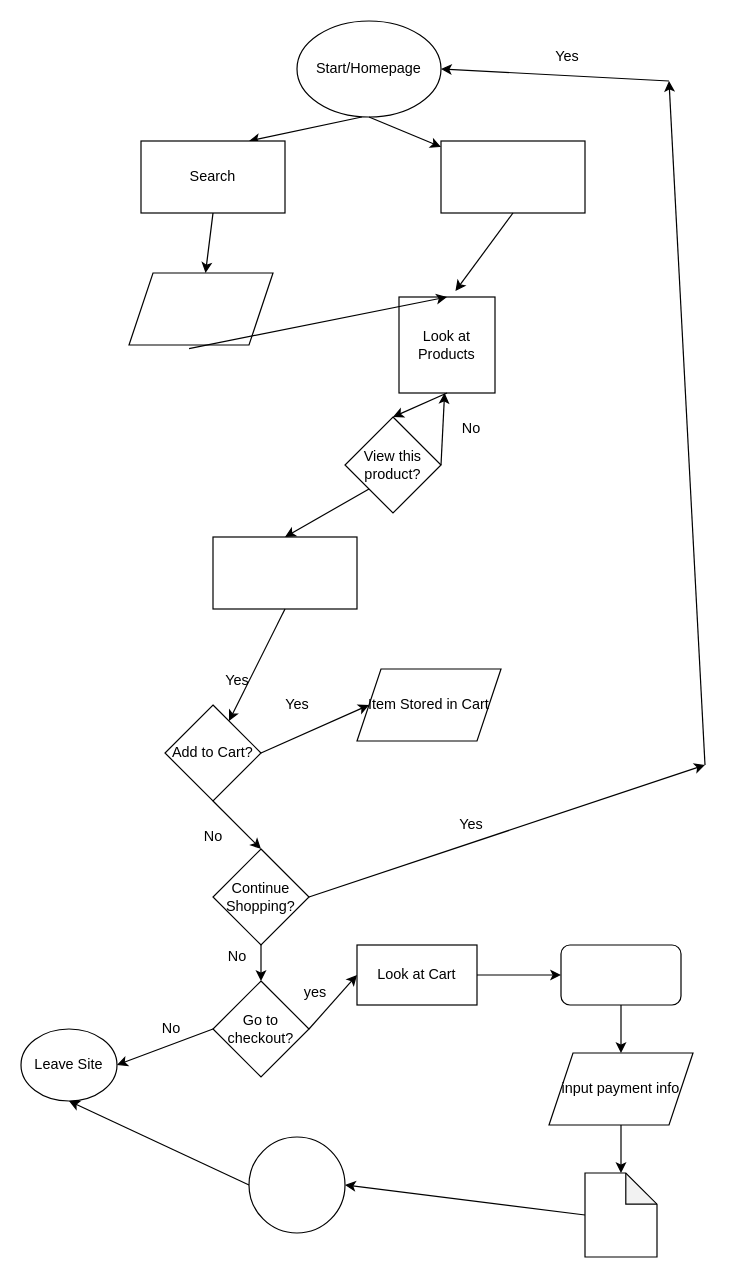
The diagram is 736 pixels wide and 1278 high, and some of its shapes have lost their labels. The shapes that lost their labels are listed below. From the top down, each one's box as (x1, y1, x2, y2) in pixels, then its label:
(440, 140, 585, 213): Explore Homepage
(128, 272, 273, 345): Type in keywords
(212, 536, 357, 609): New Page for Product
(560, 944, 681, 1005): View Payment
(248, 1136, 345, 1233): Email Confirmation
(584, 1172, 657, 1257): Order Confirm
